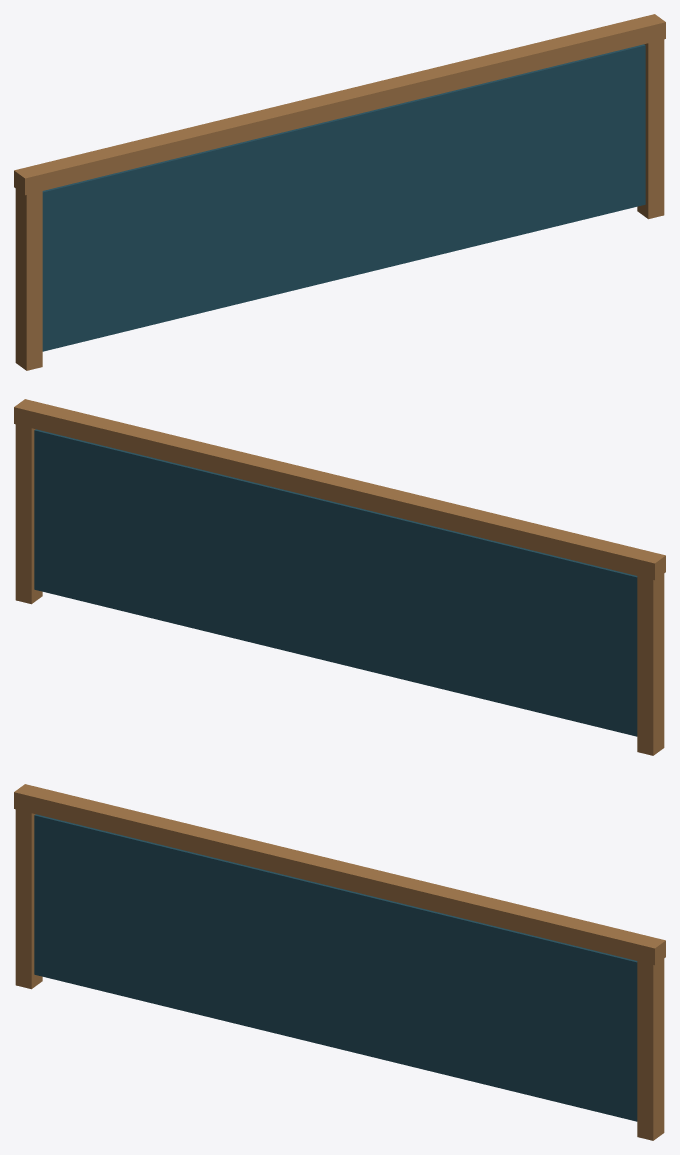
Rendered from railing.lod1.glb.
3 renders of one model, top to bottom at view 1: azimuth 30°, elevation 25°; view 2: azimuth 150°, elevation 25°; view 3: azimuth 330°, elevation 25°, orthographic.
Parts seen in each view (by area): view 1: structure; view 2: structure; view 3: structure.
Part boxes in pixels (<box>): structure: <box>14,14,665,370</box>; structure: <box>14,399,665,755</box>; structure: <box>14,784,665,1140</box>.
Bounding box in the file's own units: 4 × 1.15 × 0.12.
